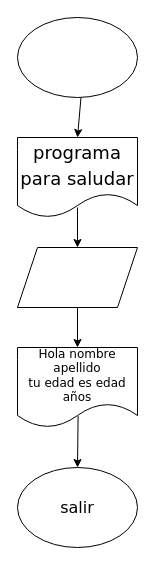
Image size: 155x565. Some labels were removed from this diagram. Here are the shapes that lost their labels. From the top down, the box of each, then its label:
(16, 16, 138, 98): inicio
(16, 246, 138, 308): Nombre, apellido, edad
